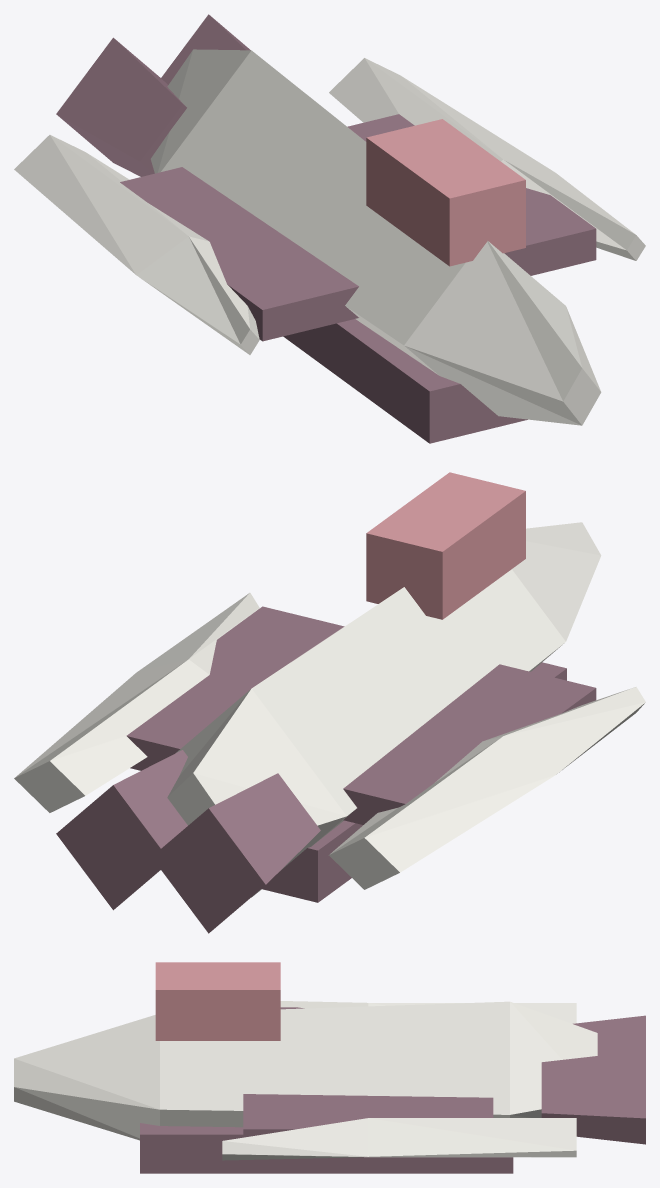
3 views of the same model, one above another, from view 1: azimuth 30°, elevation 25°; view 2: azimuth 150°, elevation 25°; view 3: azimuth 270°, elevation 25° (orthographic). The views are drawn at different scales.
Size of the model in its own units: 3.7 by 2.05 by 6.43.
